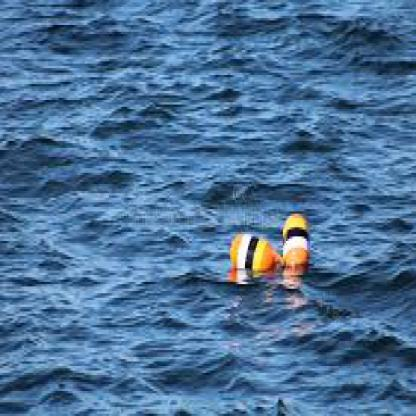buoy: (227, 218, 277, 289), (283, 184, 318, 282)
